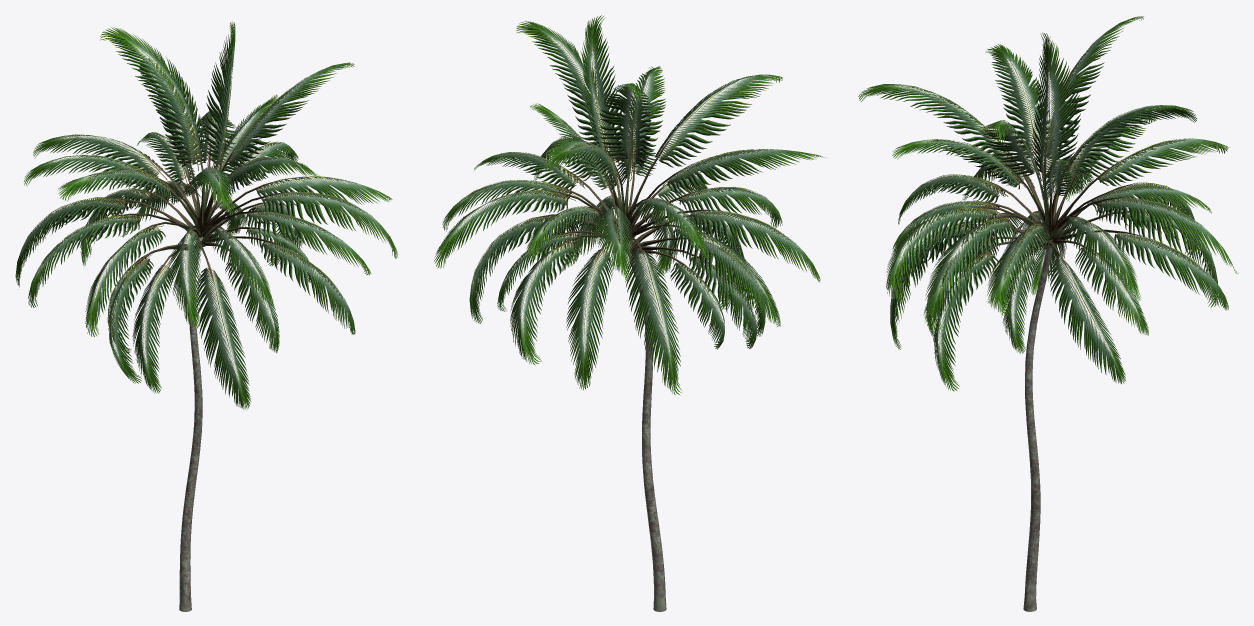
The model's file is tree13.fbx.
3 views of the same model, side by side, from view 1: azimuth 30°, elevation 25°; view 2: azimuth 150°, elevation 25°; view 3: azimuth 270°, elevation 25° (orthographic). The views are drawn at different scales.
Visible parts, largest first — view 1: SM_MZRa_Palm_B082; view 2: SM_MZRa_Palm_B082; view 3: SM_MZRa_Palm_B082.
Part boxes in pixels (x1,y1,x2,y2): SM_MZRa_Palm_B082: (15,21,398,611); SM_MZRa_Palm_B082: (434,15,824,611); SM_MZRa_Palm_B082: (858,16,1238,611).
Bounding box in the file's own units: 443 × 698 × 400.
